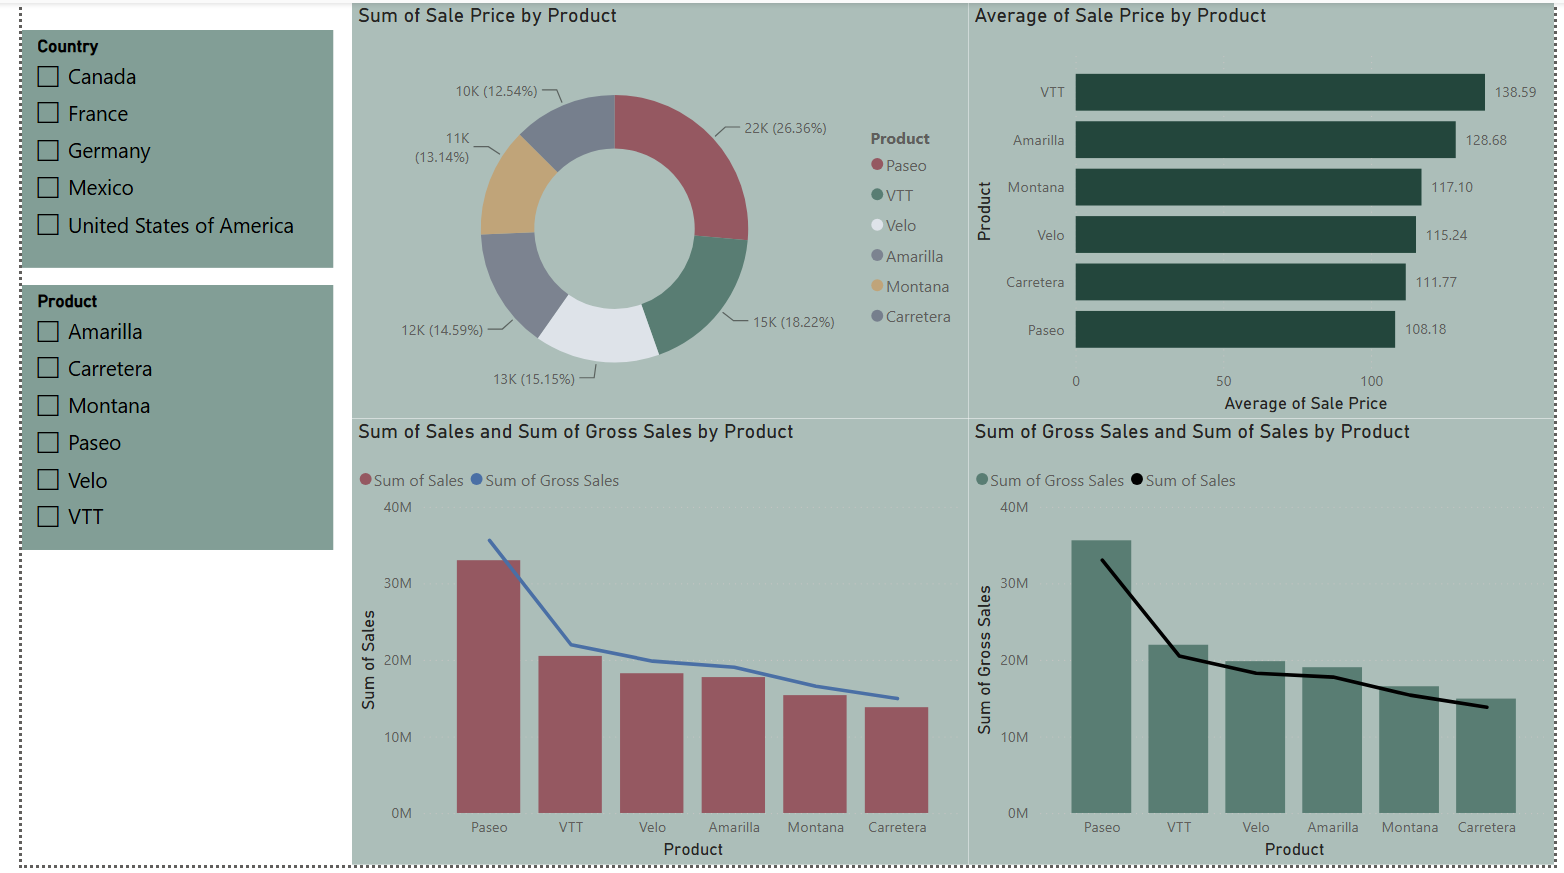

The page's visual inventory and layout, read from the dashboard file:
{"tool":"powerbi","page":{"name":"Page 7","canvas":[1280,720],"ordinal":6},"visuals":[{"type":"donutChart","fields":{"Category":["Sheet1.Product"],"Y":["Sum(Sheet1.Sale Price)"]},"box":[275.6,0,514.8,346.8],"z":0},{"type":"clusteredBarChart","fields":{"Category":["Sheet1.Product"],"Y":["Avg(Sheet1.Sale Price)"]},"box":[790.4,0,489.1,346.8],"z":1000},{"type":"lineStackedColumnComboChart","fields":{"Category":["Sheet1.Product"],"Y":["Sum(Sheet1.Sales)"],"Y2":["Sum(Sheet1.Gross Sales)"]},"box":[275.6,346.8,514.8,372.5],"z":2000},{"type":"lineClusteredColumnComboChart","fields":{"Category":["Sheet1.Product"],"Y":["Sum(Sheet1.Gross Sales)"],"Y2":["Sum(Sheet1.Sales)"]},"box":[790.4,346.8,489.1,372.5],"z":5000},{"type":"slicer","fields":{"Values":["Sheet1.Country"]},"box":[0,23.1,260,198.4],"z":5001},{"type":"slicer","fields":{"Values":["Sheet1.Product"]},"box":[0,234.9,260,221.5],"z":5002}]}

Visuals, with their boxes in screenshot pixels (x1, y1, x2, y2), scaled from the page's 1280x720 canvas onto the 1564x873 screenshot:
donutChart - Sheet1.Product x Sum(Sheet1.Sale Price): [left=337, top=0, right=966, bottom=420]
clusteredBarChart - Sheet1.Product x Avg(Sheet1.Sale Price): [left=966, top=0, right=1563, bottom=420]
lineStackedColumnComboChart - Sheet1.Product x Sum(Sheet1.Sales): [left=337, top=420, right=966, bottom=872]
lineClusteredColumnComboChart - Sheet1.Product x Sum(Sheet1.Gross Sales): [left=966, top=420, right=1563, bottom=872]
slicer - Sheet1.Country: [left=0, top=28, right=318, bottom=269]
slicer - Sheet1.Product: [left=0, top=285, right=318, bottom=553]
